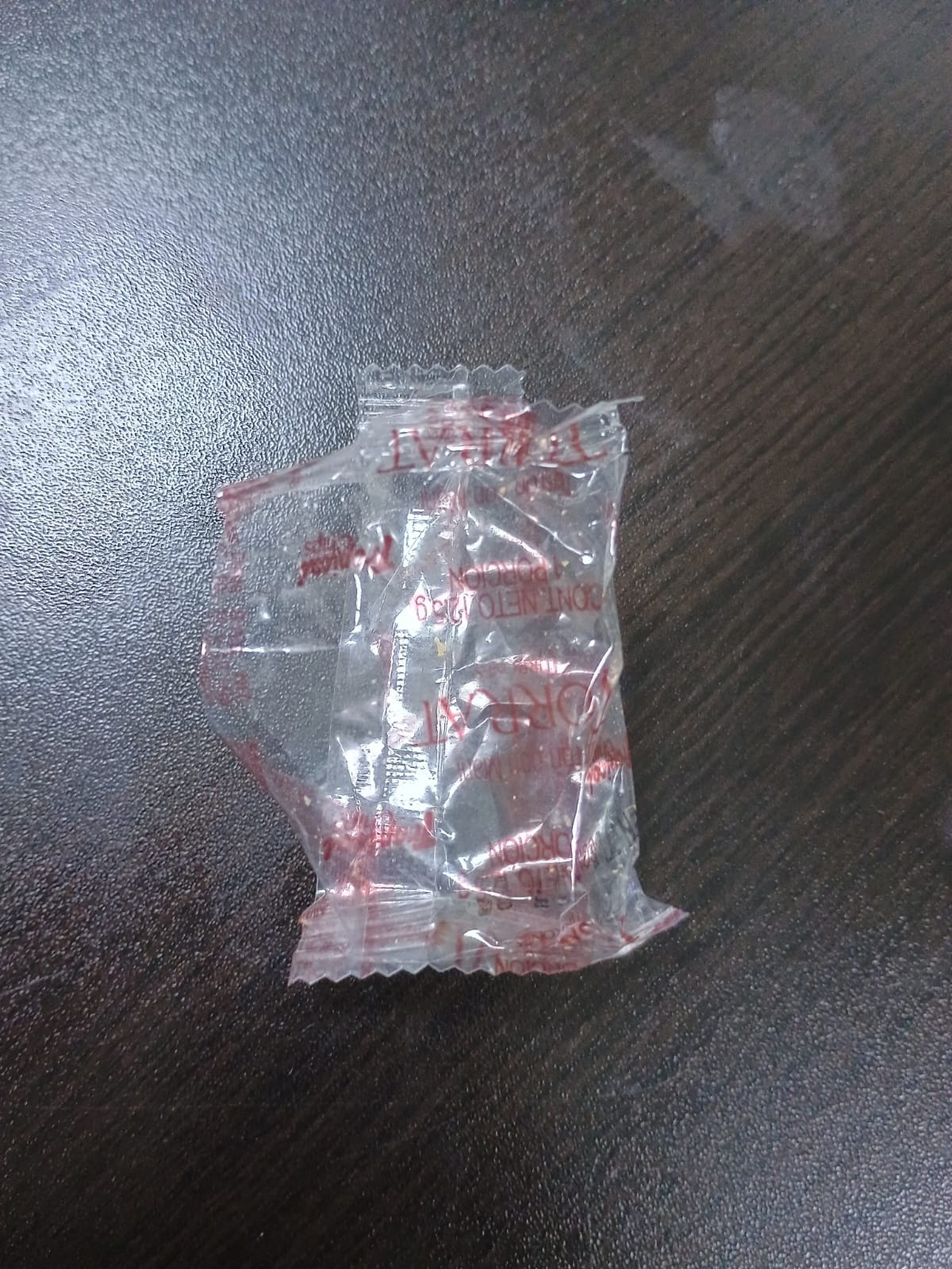Ordinario: (200, 366, 698, 986)
